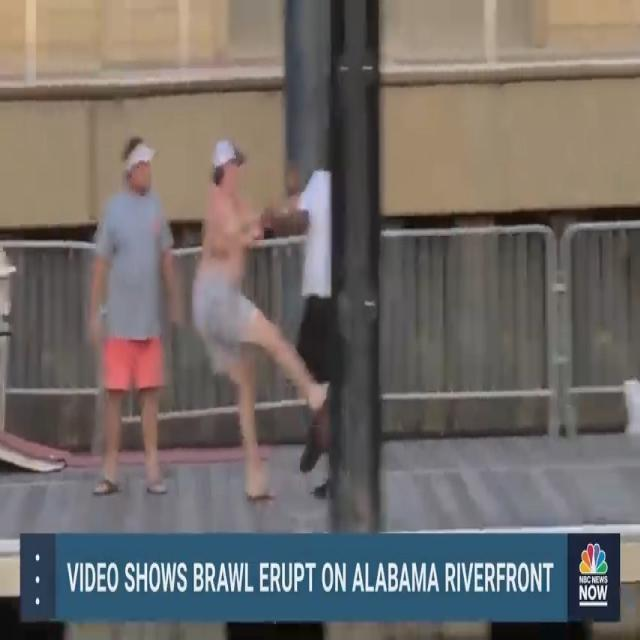fight: (196, 123, 333, 512)
non-fight: (86, 125, 185, 508)
